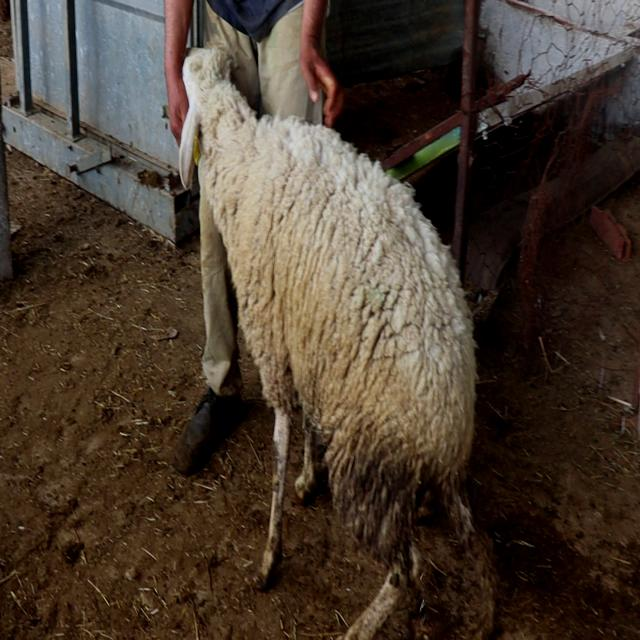Score_3: (180, 49, 496, 639)
